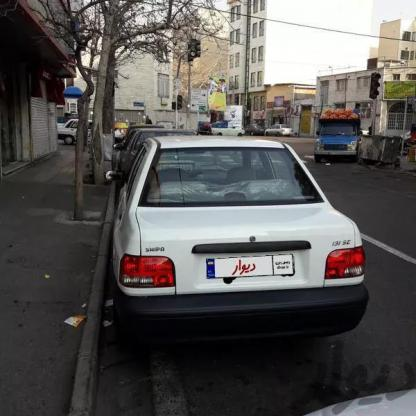Car: (90, 121, 384, 340), (315, 104, 366, 158), (57, 118, 127, 152), (200, 121, 247, 137), (265, 121, 293, 141), (244, 123, 264, 133)
